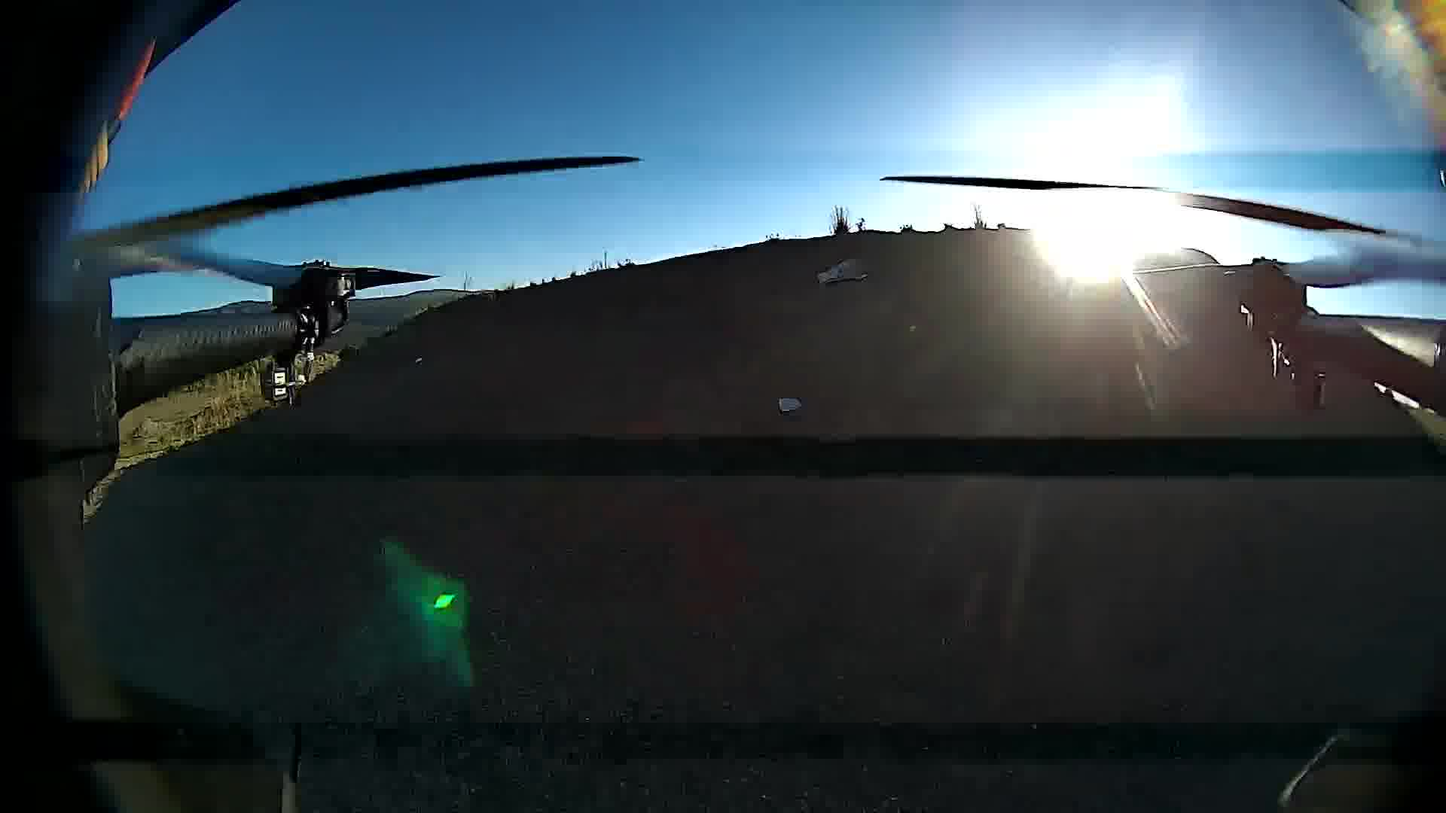Target: (775, 394, 805, 413)
